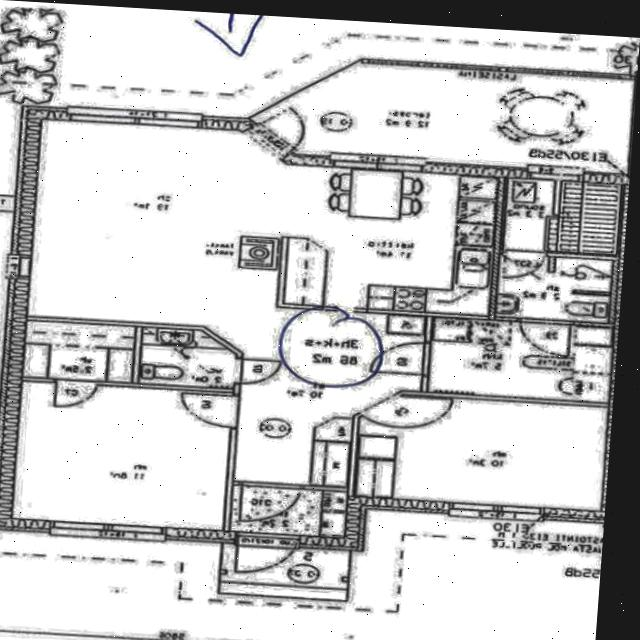room: (12, 381, 231, 530), (356, 395, 609, 511), (429, 319, 612, 402), (504, 178, 621, 255), (496, 253, 614, 324), (24, 321, 135, 383), (230, 485, 347, 538), (140, 328, 238, 388)
